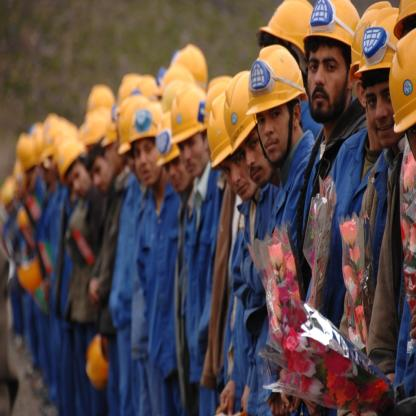Helmet: (0, 0, 415, 215)
